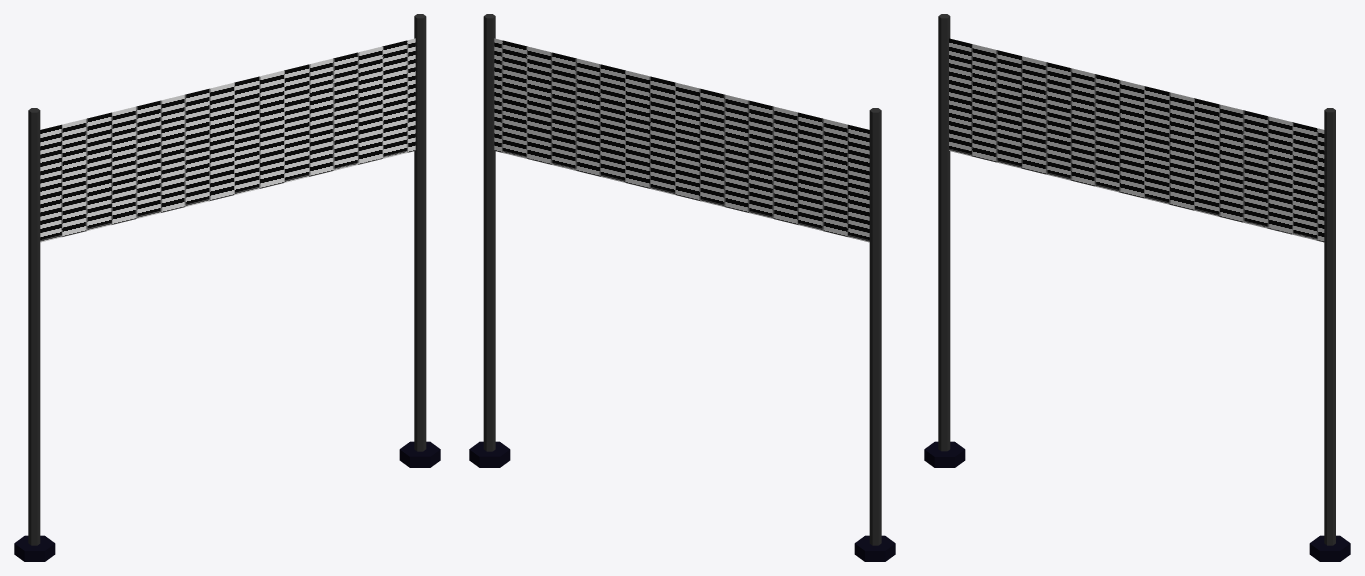
The model's file is meta.fbx.
3 views of the same model, side by side, from view 1: azimuth 30°, elevation 25°; view 2: azimuth 150°, elevation 25°; view 3: azimuth 330°, elevation 25° (orthographic).
Parts seen in each view (by area): view 1: Plane, Cylinder.001, Cylinder, Cylinder.002, Cylinder.003; view 2: Plane, Cylinder.001, Cylinder, Cylinder.002, Cylinder.003; view 3: Plane, Cylinder.001, Cylinder, Cylinder.002, Cylinder.003.
Part boxes in pixels (x1=…): Plane: x1=40, y1=38, x2=415, y2=242; Cylinder.001: x1=28, y1=108, x2=40, y2=545; Cylinder: x1=414, y1=14, x2=426, y2=451; Cylinder.002: x1=399, y1=441, x2=440, y2=467; Cylinder.003: x1=14, y1=535, x2=55, y2=561; Plane: x1=494, y1=38, x2=869, y2=242; Cylinder.001: x1=869, y1=108, x2=881, y2=545; Cylinder: x1=483, y1=14, x2=495, y2=451; Cylinder.002: x1=469, y1=441, x2=510, y2=467; Cylinder.003: x1=854, y1=535, x2=895, y2=561; Plane: x1=949, y1=38, x2=1324, y2=242; Cylinder.001: x1=938, y1=14, x2=950, y2=451; Cylinder: x1=1324, y1=108, x2=1335, y2=545; Cylinder.002: x1=1309, y1=535, x2=1350, y2=561; Cylinder.003: x1=924, y1=441, x2=965, y2=467.
Bounding box in the file's own units: 5504 × 5614 × 470.
3 materials, 1 textured.
